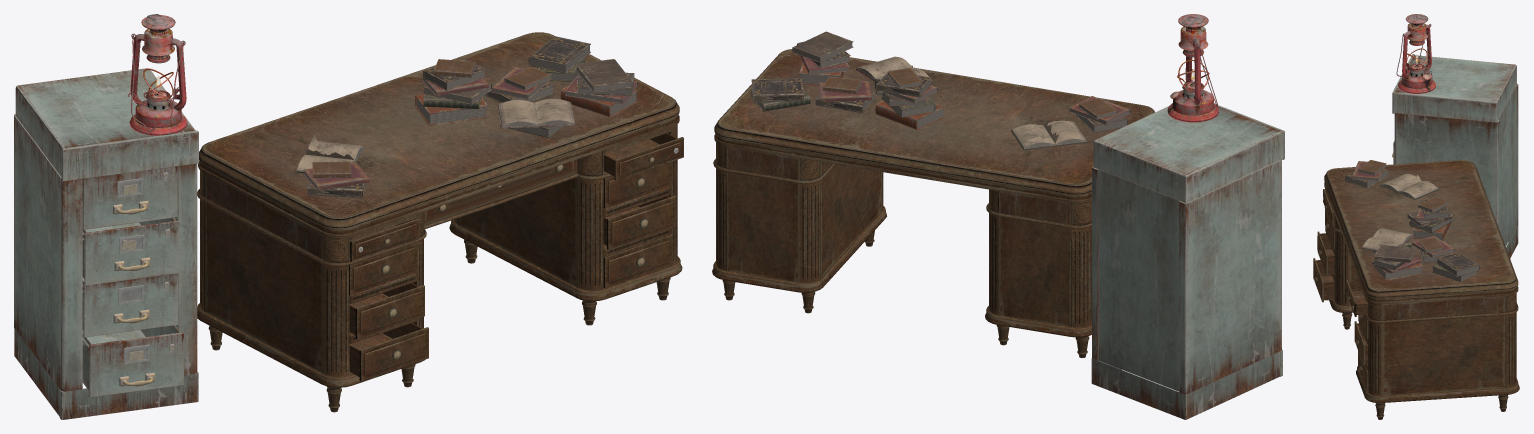
File: desk.glb
The picture shows the model from 3 angles, left to right: view 1: azimuth 30°, elevation 25°; view 2: azimuth 150°, elevation 25°; view 3: azimuth 270°, elevation 25°; orthographic projection. The views are drawn at different scales.
Parts seen in each view (by area): view 1: desk_wooden1_mat_desk_wood_0, cabinet_medium_mat_cabinets_0, bookstack3_mat_books_0, hurricaneLamp_baseShape_mat_oillamp_opaque_0; view 2: desk_wooden1_mat_desk_wood_0, cabinet_medium_mat_cabinets_0, bookstack3_mat_books_0, hurricaneLamp_baseShape_mat_oillamp_opaque_0; view 3: desk_wooden1_mat_desk_wood_0, cabinet_medium_mat_cabinets_0, bookstack3_mat_books_0, hurricaneLamp_baseShape_mat_oillamp_opaque_0.
Boxes of the visible parts, box(x1,y1,x2,y2) form: desk_wooden1_mat_desk_wood_0: box(197, 32, 683, 412); cabinet_medium_mat_cabinets_0: box(14, 68, 198, 419); bookstack3_mat_books_0: box(295, 36, 638, 197); hurricaneLamp_baseShape_mat_oillamp_opaque_0: box(128, 14, 187, 135); desk_wooden1_mat_desk_wood_0: box(712, 49, 1154, 357); cabinet_medium_mat_cabinets_0: box(1091, 105, 1284, 419); bookstack3_mat_books_0: box(750, 31, 1130, 149); hurricaneLamp_baseShape_mat_oillamp_opaque_0: box(1167, 14, 1219, 122); desk_wooden1_mat_desk_wood_0: box(1313, 160, 1519, 419); cabinet_medium_mat_cabinets_0: box(1392, 54, 1518, 258); bookstack3_mat_books_0: box(1345, 160, 1479, 281); hurricaneLamp_baseShape_mat_oillamp_opaque_0: box(1396, 14, 1435, 93).
Size of the model in its own units: 2.24 by 1.37 by 1.03.
6 materials, 6 textured.
